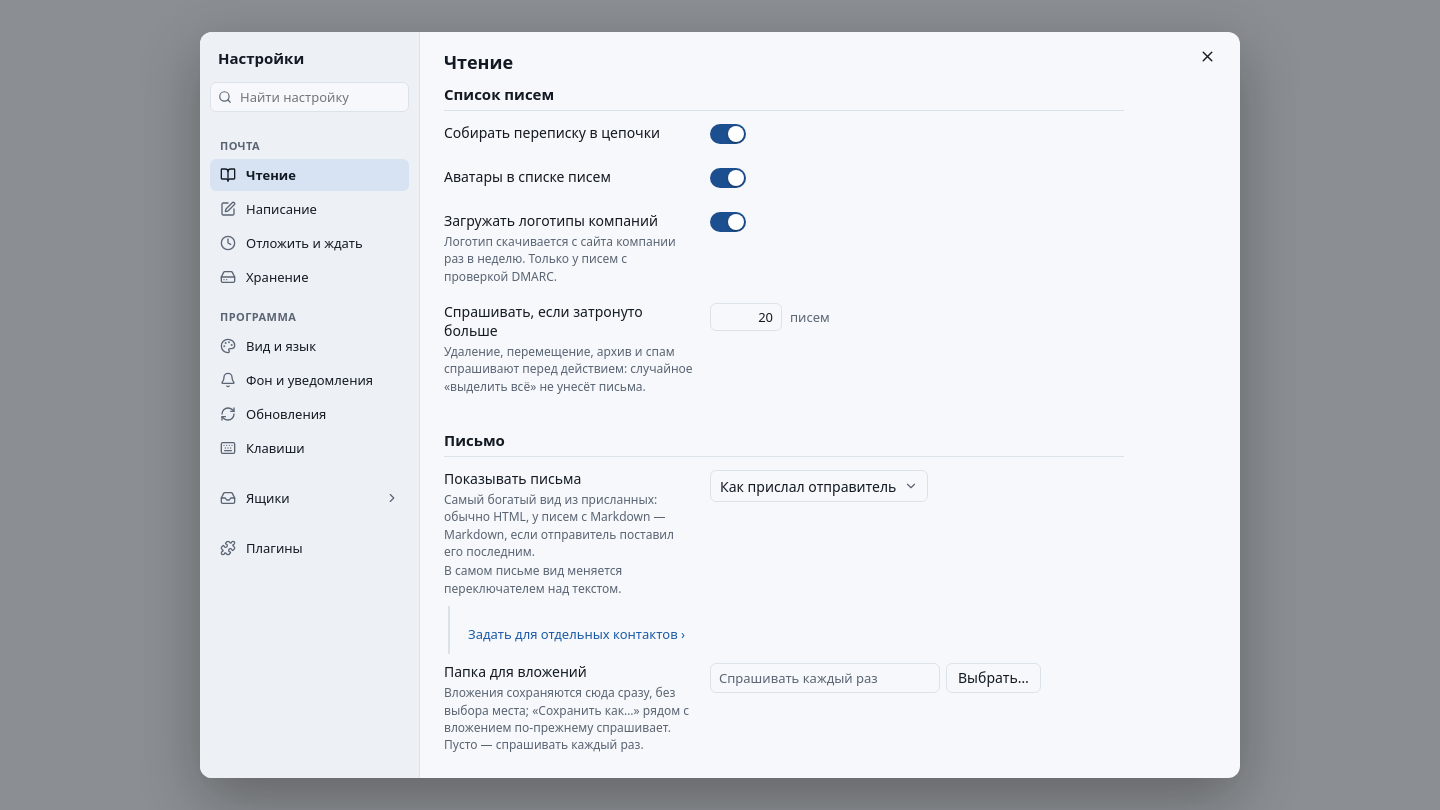
Test: the search shows the rows found, alive (0.8.12, 4.1 Б, 4.2 А, 4.3 А) › finds a field of a mailbox's page, and its link opens the page at the field
Type "подпис" into the search field with placeholder "Найти настройку" at (320, 97), box x1=238 y1=87 x2=401 y2=107
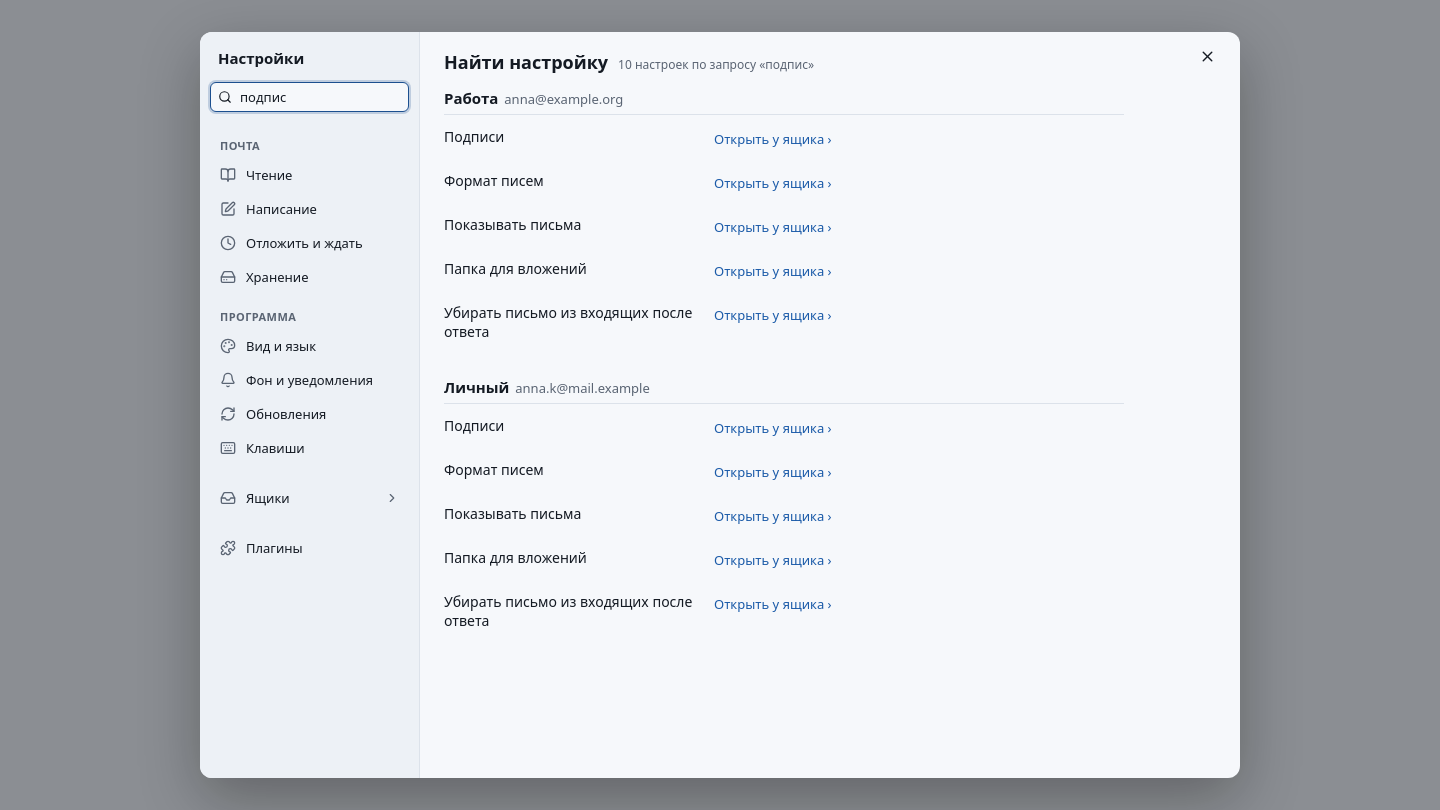
Result: the text with class "sub" reads "anna@example.org" at x1=504 y1=90 x2=623 y2=108
Result: the 1st button with class "lnk" reads "Открыть у ящика ›"
Click the 1st button with class "lnk" at (773, 139), box x1=710 y1=128 x2=836 y2=150
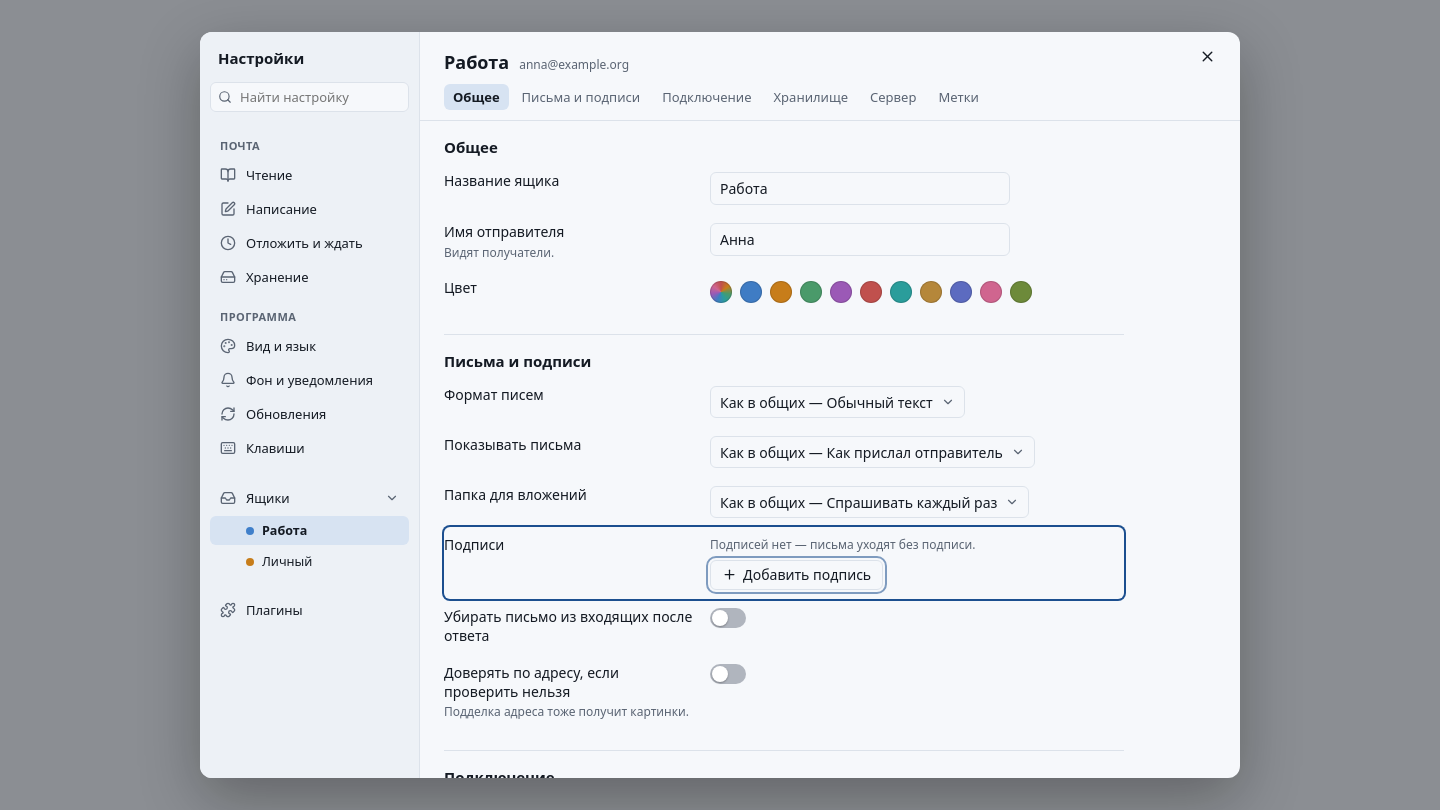
Result: the element that starts with "Подписи" is shown at x1=444 y1=527 x2=1124 y2=599
Result: the text "Работа" is shown at x1=262 y1=522 x2=307 y2=539
